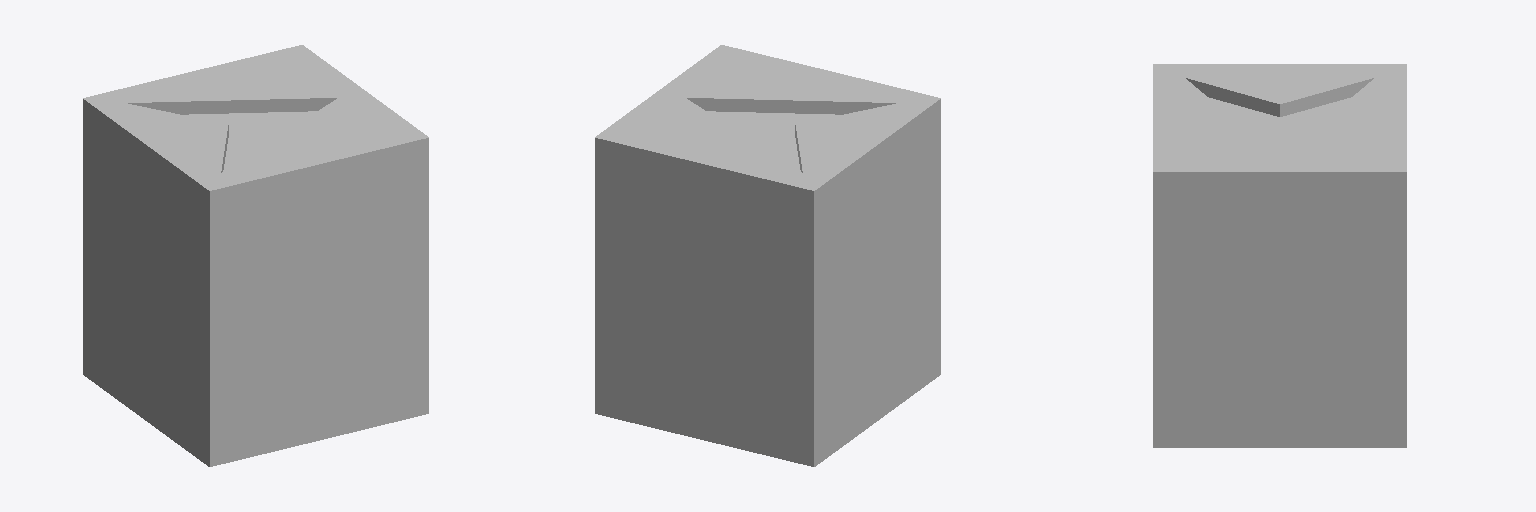
File: testbox.obj
3 renders of one model, left to right at view 1: azimuth 30°, elevation 25°; view 2: azimuth 150°, elevation 25°; view 3: azimuth 270°, elevation 25°, orthographic.
Visible parts, largest first — view 1: SELECT; view 2: SELECT; view 3: SELECT.
Part boxes in pixels (bbox=[...]): SELECT: bbox=[83, 45, 428, 466]; SELECT: bbox=[595, 45, 940, 466]; SELECT: bbox=[1153, 64, 1406, 447].
Size of the model in its own units: 64 by 76.8 by 64.